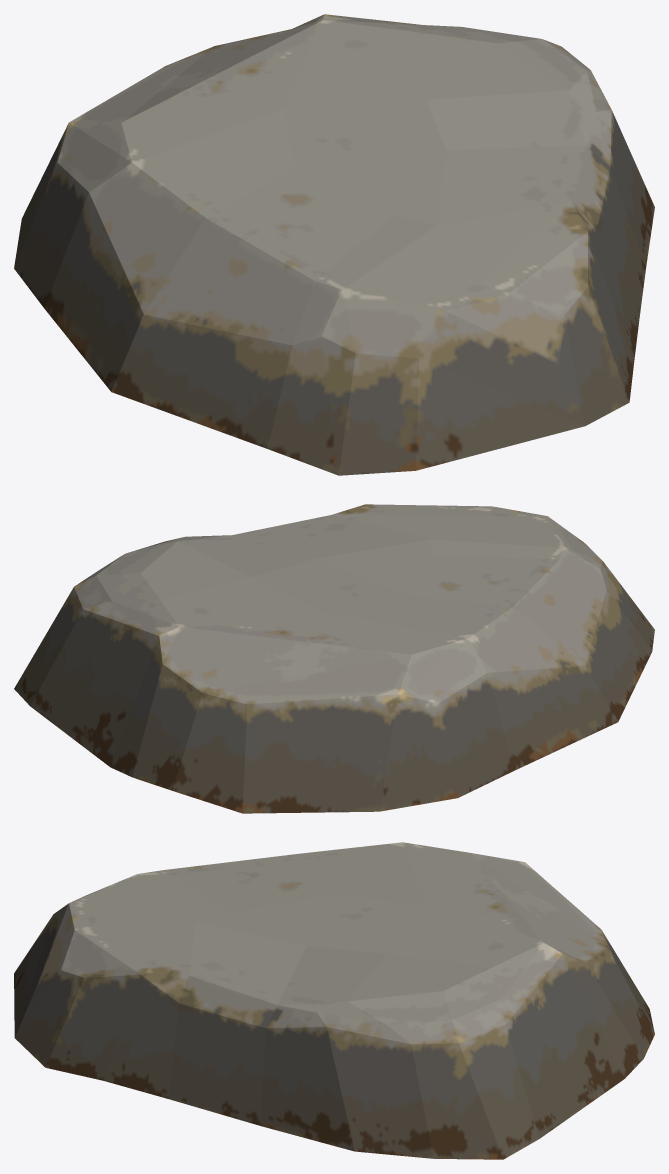
Rendered from Pebble_Round_4__go_coast.glb.
3 views of the same model, one above another, from view 1: azimuth 30°, elevation 25°; view 2: azimuth 150°, elevation 25°; view 3: azimuth 270°, elevation 25° (orthographic). The views are drawn at different scales.
Parts seen in each view (by area): view 1: Pebble_Round_4; view 2: Pebble_Round_4; view 3: Pebble_Round_4.
Part boxes in pixels (x1,y1,x2,y2): Pebble_Round_4: (14, 14, 654, 475); Pebble_Round_4: (14, 504, 654, 813); Pebble_Round_4: (14, 842, 654, 1159).
Bounding box in the file's own units: 0.4063 × 0.0994 × 0.4524.
1 material, 1 textured.
